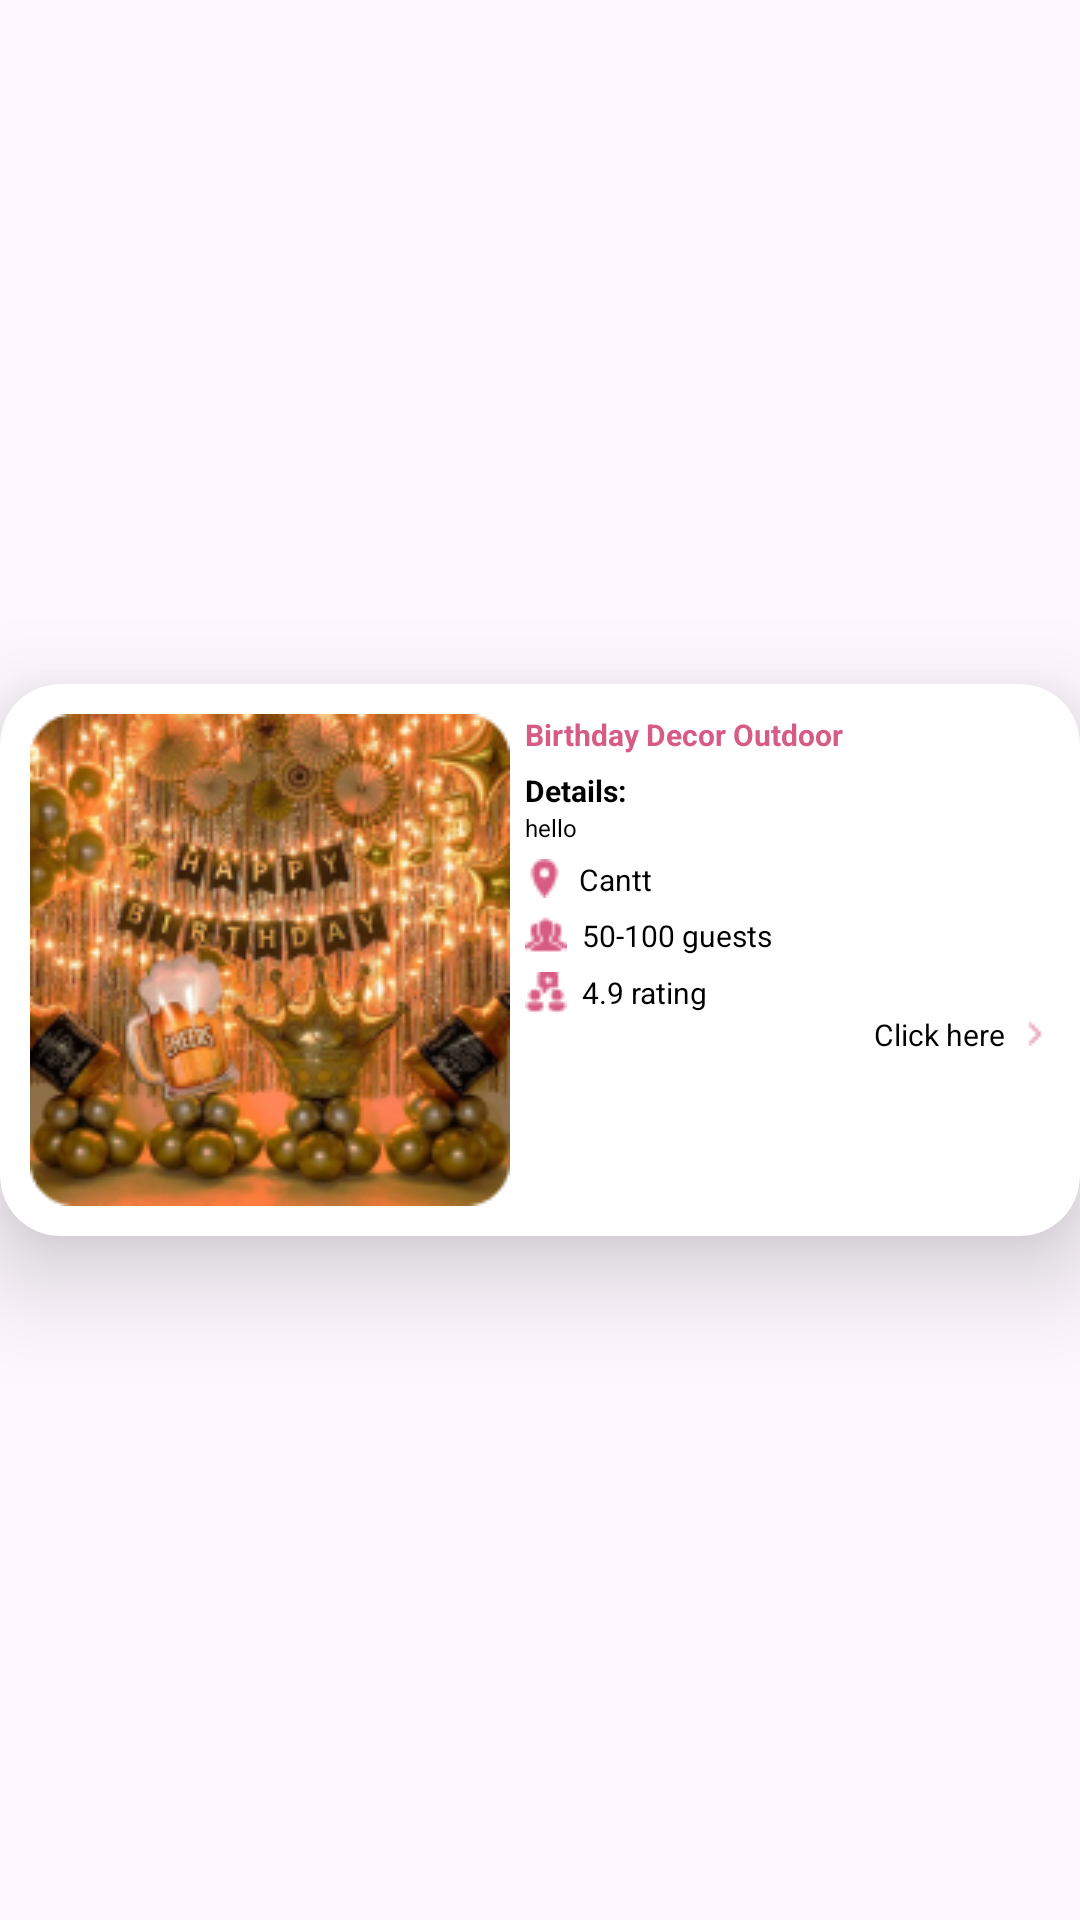

Named icons in this screenshot (1080px x 1920px) and their centers, (x=x, y=y):
forward: (x=1035, y=1034)
location: (x=544, y=878)
people: (x=546, y=934)
